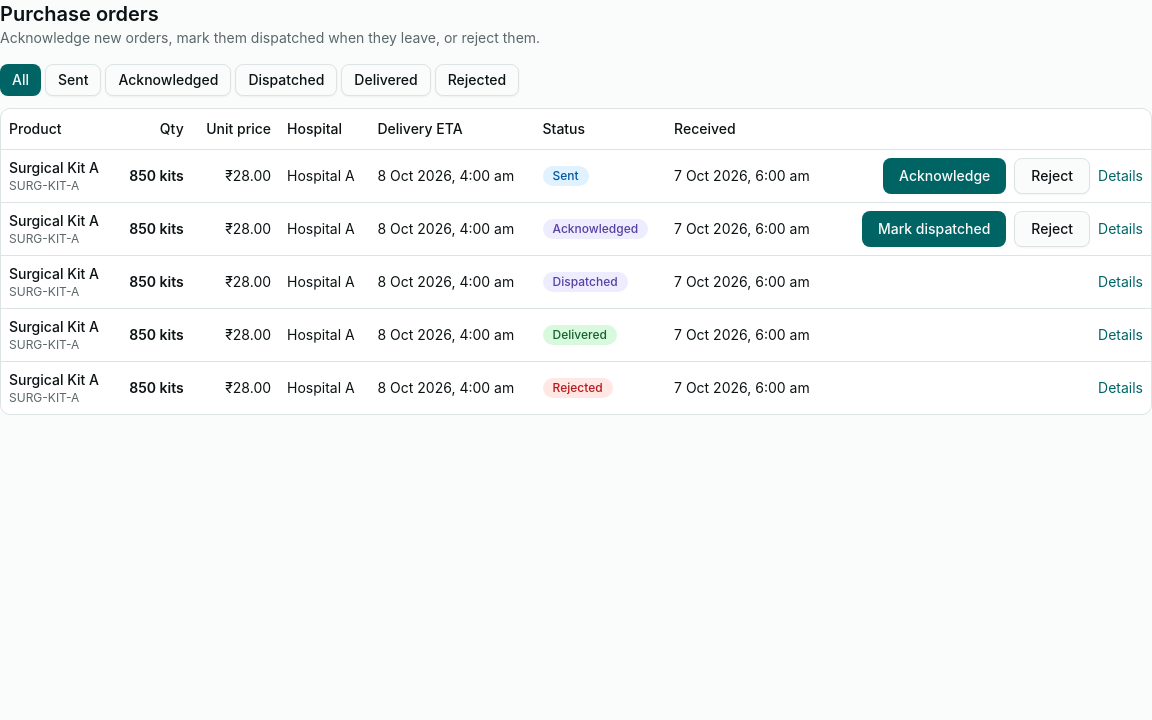
Test: Purchase orders › shows the hub's 409 when the order already moved on, and refetches
Click the button "Mark dispatched".
click(934, 228)  # box [862,210,1006,246]
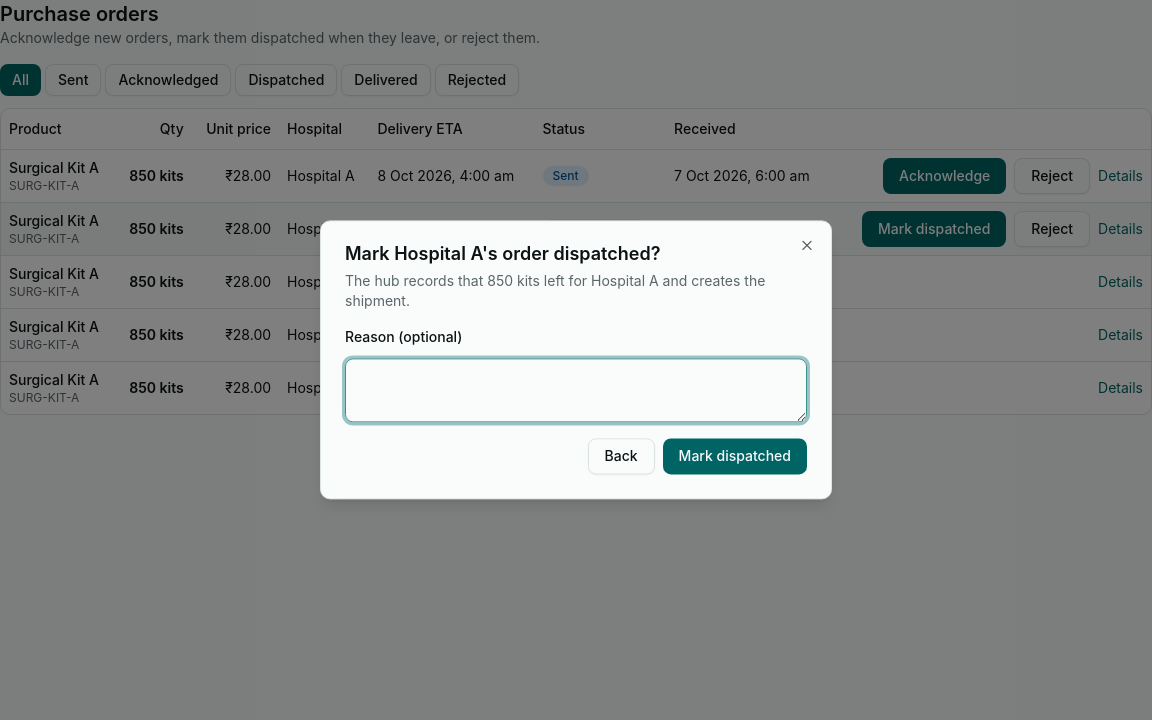
Click the button "Mark dispatched".
click(735, 457)  # box [663,439,807,475]
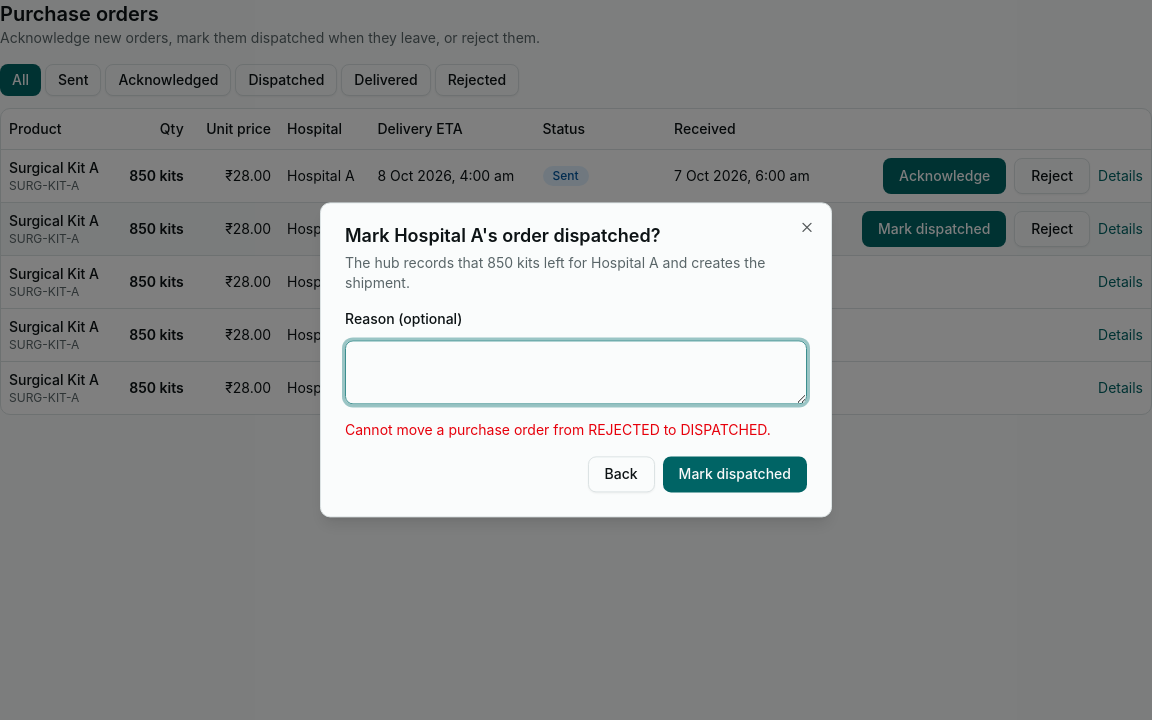
Expected: the text "Cannot move a purchase order from REJECTED to DISPATCHED." is shown, [345,421,807,441]
